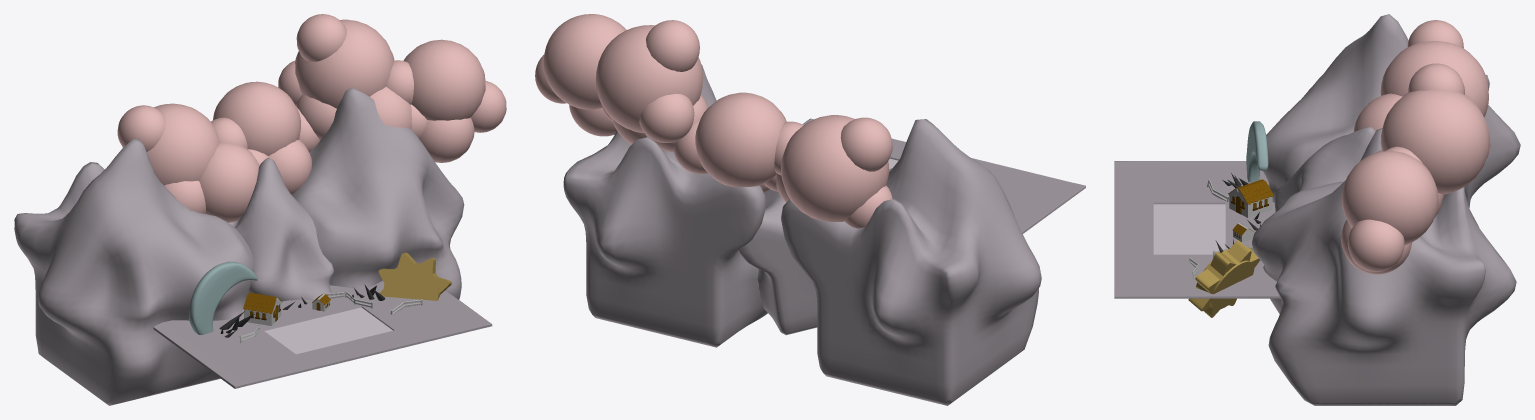
The model's file is W3_Combat.fbx.
3 views of the same model, side by side, from view 1: azimuth 30°, elevation 25°; view 2: azimuth 150°, elevation 25°; view 3: azimuth 270°, elevation 25° (orthographic). The views are drawn at different scales.
Visible parts, largest first — view 1: pCube897, pCube898, pCube864, pSphere145 (×2), pSphere146 (×2), pCube896, pSphere147 (×2), pSphere154 (×2), pSphere153 (×2), pCube1002, pCylinder1055, pSphere152 (×2) (+3 smaller); view 2: pCube897, pCube898, pSphere146 (×2), pSphere145 (×2), pCube896, pSphere154 (×2), pCube864, pSphere148 (×2), pSphere149 (×2), pSphere153, pSphere150; view 3: pCube898, pCube864, pCube897, pSphere146 (×2), pSphere145, pCube896, pCylinder1055, pSphere149, pSphere154 (×2), pCube1002, pSphere147, pSphere153.
Boxes of the visible parts, bbox=[...] form: pCube897: bbox=[14, 139, 254, 405]; pCube898: bbox=[292, 87, 464, 299]; pCube864: bbox=[153, 280, 492, 388]; pSphere145 (×2): bbox=[213, 39, 485, 155]; pSphere146 (×2): bbox=[122, 19, 394, 185]; pCube896: bbox=[229, 158, 333, 301]; pSphere147 (×2): bbox=[199, 87, 411, 222]; pSphere154 (×2): bbox=[117, 14, 346, 151]; pSphere153 (×2): bbox=[268, 117, 474, 194]; pCube1002: bbox=[189, 261, 257, 334]; pCylinder1055: bbox=[378, 252, 451, 300]; pSphere152 (×2): bbox=[164, 94, 336, 213]; pCube897: bbox=[781, 119, 1041, 405]; pCube898: bbox=[563, 64, 767, 347]; pSphere146 (×2): bbox=[595, 25, 889, 222]; pSphere145 (×2): bbox=[543, 14, 786, 187]; pCube896: bbox=[738, 189, 817, 335]; pSphere154 (×2): bbox=[646, 20, 892, 171]; pCube864: bbox=[802, 118, 1085, 233]; pSphere148 (×2): bbox=[639, 93, 892, 228]; pSphere149 (×2): bbox=[535, 55, 707, 174]; pSphere153: bbox=[569, 104, 616, 136]; pSphere150: bbox=[774, 121, 803, 174]; pCube898: bbox=[1252, 128, 1516, 405]; pCube864: bbox=[1114, 161, 1280, 298]; pCube897: bbox=[1262, 14, 1520, 208]; pSphere146 (×2): bbox=[1380, 41, 1489, 194]; pSphere145: bbox=[1342, 151, 1438, 244]; pCube896: bbox=[1274, 127, 1375, 211]; pCylinder1055: bbox=[1188, 240, 1260, 317]; pSphere149: bbox=[1347, 219, 1404, 271]; pSphere154 (×2): bbox=[1407, 20, 1464, 94]; pCube1002: bbox=[1246, 121, 1268, 182]; pSphere147: bbox=[1353, 93, 1402, 131]; pSphere153: bbox=[1341, 220, 1412, 274].
Size of the model in its own units: 1608 by 939 by 1128.
